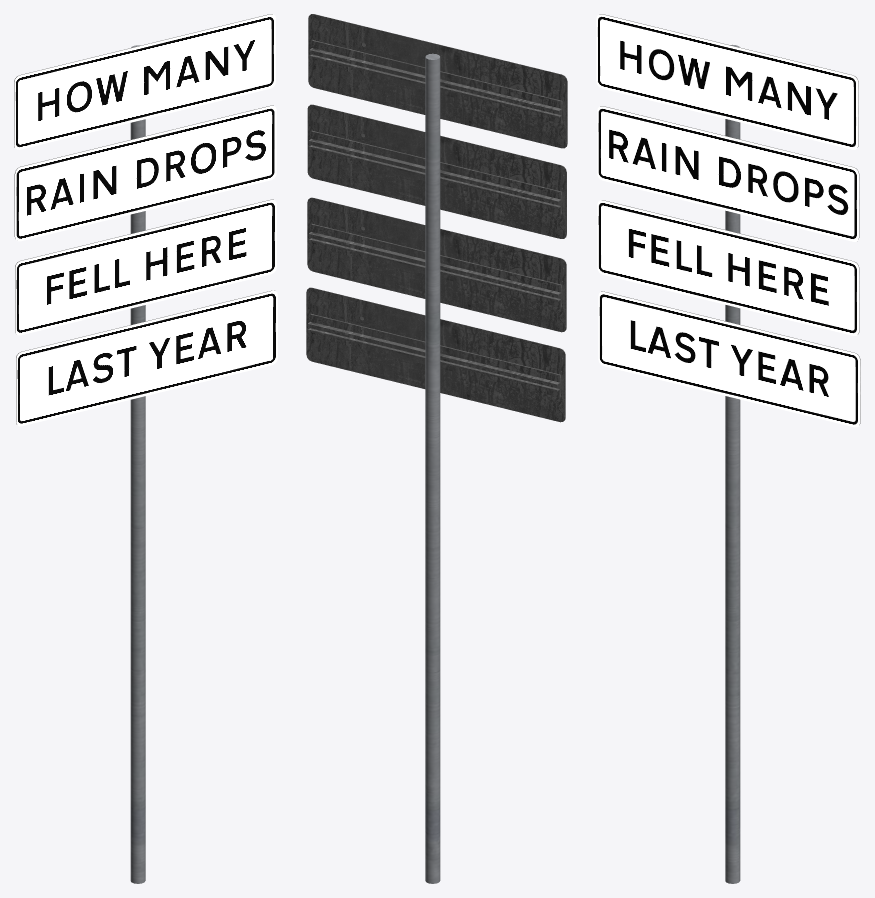
The model's file is rain-drops.gltf.
The picture shows the model from 3 angles, left to right: view 1: azimuth 30°, elevation 25°; view 2: azimuth 150°, elevation 25°; view 3: azimuth 330°, elevation 25°; orthographic projection.
Parts seen in each view (by area): view 1: Sign_S_1.5_.007, Sign_S_1.5_.008, Sign_S_1.5_.009, Sign_S_1.5_.004, PoleA_50.8_2800mm_A_.041; view 2: Sign_S_1.5_.004, Sign_S_1.5_.008, Sign_S_1.5_.009, Sign_S_1.5_.007, PoleA_50.8_2800mm_A_.041; view 3: Sign_S_1.5_.009, Sign_S_1.5_.007, Sign_S_1.5_.008, Sign_S_1.5_.004, PoleA_50.8_2800mm_A_.041.
Boxes of the visible parts, left/top/right/bottom form: Sign_S_1.5_.007: left=14, top=105, right=276, bottom=241; Sign_S_1.5_.008: left=15, top=199, right=276, bottom=335; Sign_S_1.5_.009: left=16, top=290, right=277, bottom=426; Sign_S_1.5_.004: left=14, top=14, right=275, bottom=149; PoleA_50.8_2800mm_A_.041: left=130, top=45, right=145, bottom=883; Sign_S_1.5_.004: left=308, top=14, right=567, bottom=148; Sign_S_1.5_.008: left=307, top=197, right=566, bottom=332; Sign_S_1.5_.009: left=306, top=287, right=565, bottom=422; Sign_S_1.5_.007: left=307, top=104, right=566, bottom=238; PoleA_50.8_2800mm_A_.041: left=425, top=53, right=440, bottom=883; Sign_S_1.5_.009: left=598, top=291, right=860, bottom=427; Sign_S_1.5_.007: left=597, top=106, right=859, bottom=241; Sign_S_1.5_.008: left=597, top=200, right=859, bottom=335; Sign_S_1.5_.004: left=596, top=14, right=858, bottom=149; PoleA_50.8_2800mm_A_.041: left=725, top=44, right=740, bottom=883.
Size of the model in its own units: 0.6946 by 2.12 by 0.0457.
Materials: 17 (17 with a texture image).
